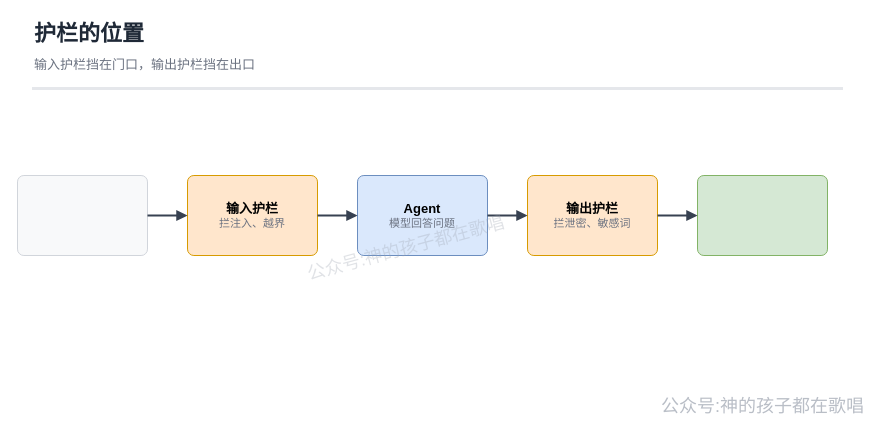
The diagram is 883 pixels wide and 440 high, and some of its shapes have lost their labels. The shapes that lost their labels are listed below. From the top down, each one's centre as x and y in pixels, then its label:
At point 82,215: "用户输入 你说了什么".
At point 762,215: "最终输出 给用户看".
